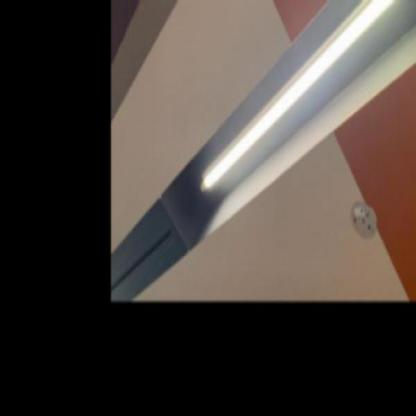light_on: (191, 0, 415, 205)
